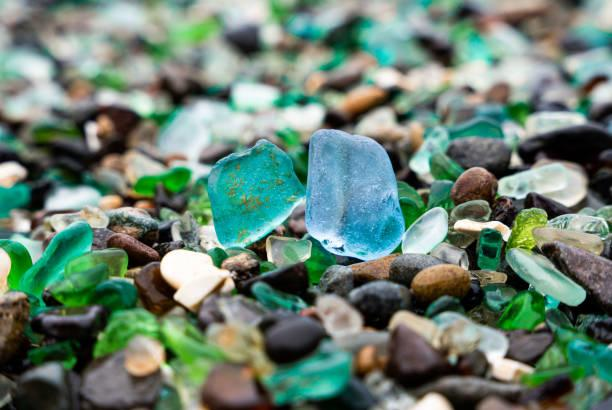glass: (303, 131, 406, 261), (206, 138, 305, 246), (20, 222, 94, 299), (262, 346, 353, 405), (80, 347, 163, 408), (504, 246, 585, 306), (384, 322, 457, 385), (159, 315, 229, 378), (158, 102, 228, 158), (432, 312, 508, 360), (92, 308, 162, 359), (359, 21, 426, 68), (11, 361, 75, 409), (30, 304, 108, 343), (499, 162, 569, 199), (494, 289, 547, 331), (567, 338, 612, 385), (409, 127, 451, 176), (504, 207, 548, 252), (2, 49, 56, 82), (133, 165, 192, 195), (0, 239, 33, 291), (548, 213, 609, 241), (251, 281, 306, 312), (521, 361, 580, 389), (47, 206, 107, 233), (265, 235, 311, 270), (92, 278, 139, 312), (230, 80, 278, 112), (526, 110, 586, 135), (446, 115, 504, 140), (475, 226, 505, 270), (171, 211, 203, 249), (534, 339, 570, 371), (428, 241, 470, 268), (6, 233, 44, 262), (0, 183, 31, 218), (450, 199, 492, 223), (481, 284, 515, 312)
